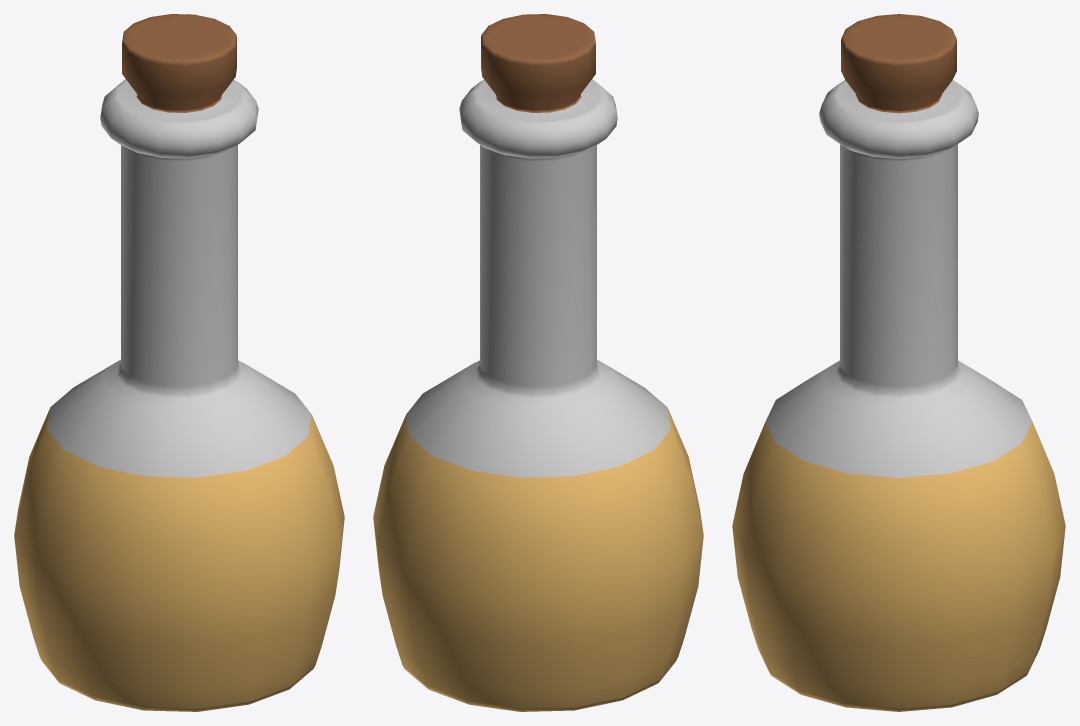
File: Pocion_6.fbx
3 renders of one model, left to right at view 1: azimuth 30°, elevation 25°; view 2: azimuth 150°, elevation 25°; view 3: azimuth 270°, elevation 25°, orthographic.
Parts seen in each view (by area): view 1: Cube.004; view 2: Cube.004; view 3: Cube.004.
Part boxes in pixels (bbox=[...]): Cube.004: bbox=[14, 14, 344, 711]; Cube.004: bbox=[373, 14, 703, 711]; Cube.004: bbox=[732, 14, 1065, 711].
Size of the model in its own units: 93.84 by 192 by 93.84.
